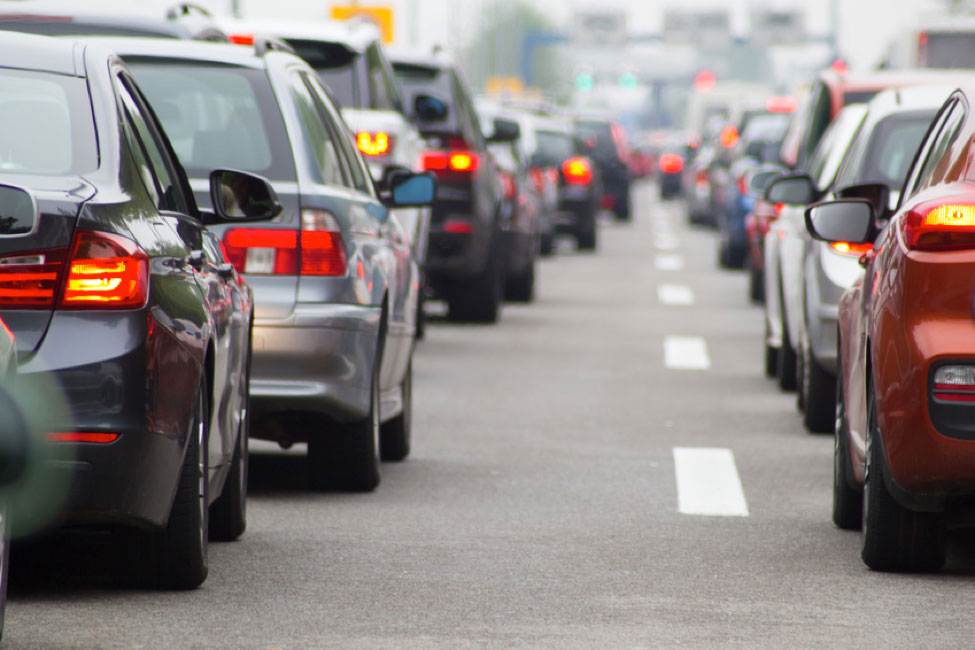car: (75, 32, 415, 500), (1, 30, 251, 601), (836, 108, 975, 569), (779, 91, 922, 410), (393, 51, 541, 338), (533, 117, 606, 252)
